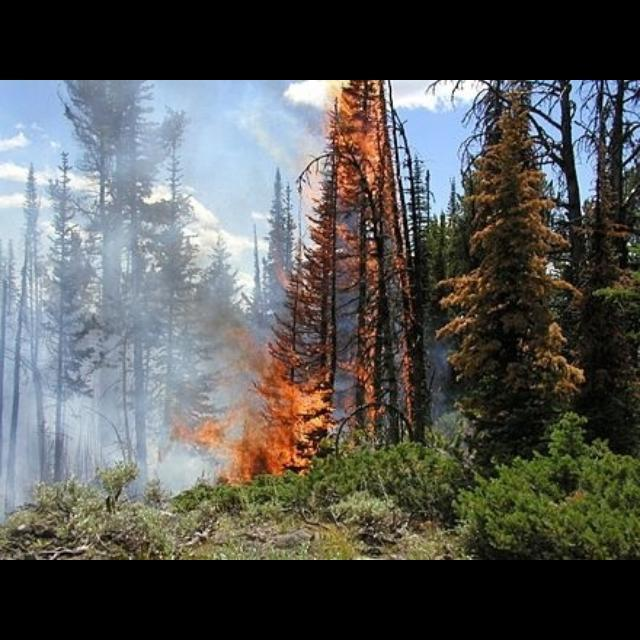Fire: (298, 79, 416, 486), (168, 336, 300, 486)
Smoke: (0, 80, 161, 509), (162, 81, 301, 345)
